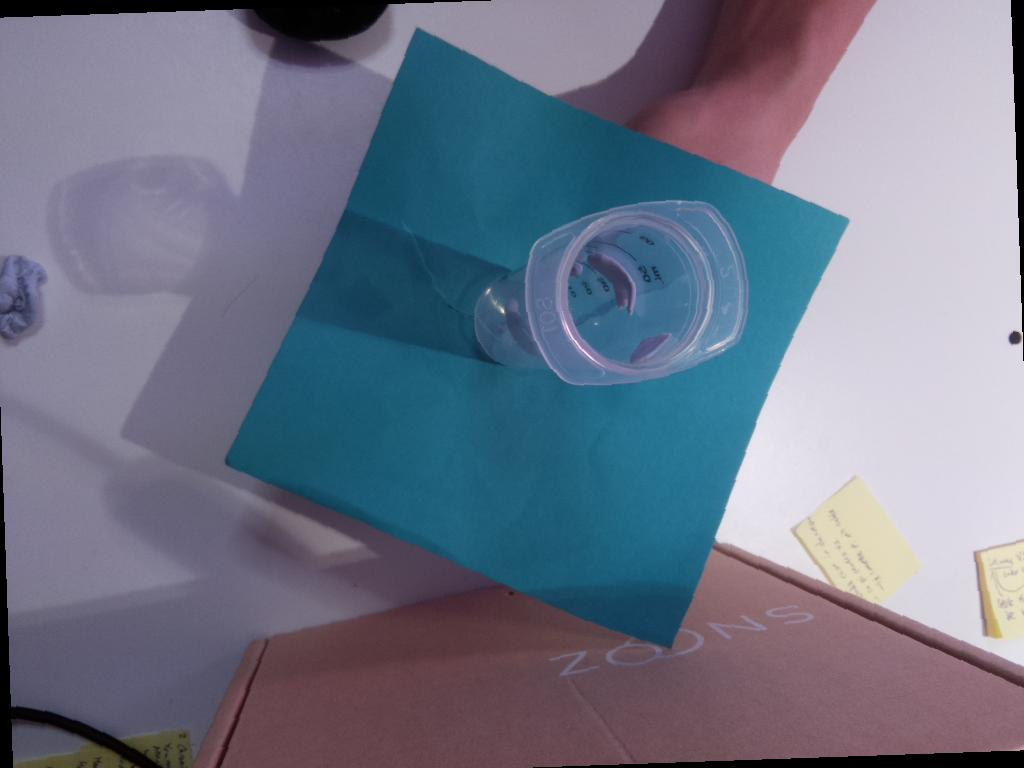dirty: (524, 198, 749, 385)
